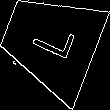L_NW: (23, 18, 77, 66)
